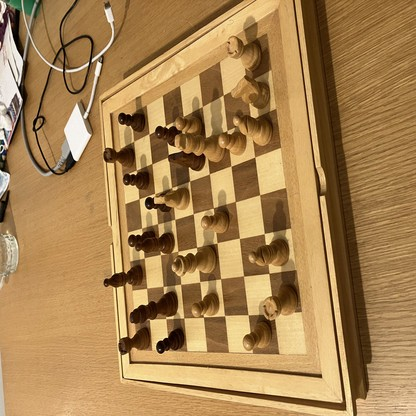bishop_black: (135, 231, 175, 252), (104, 266, 143, 287)
bishop_white: (233, 114, 273, 146), (249, 237, 290, 266)
king_black: (129, 291, 178, 324)
knight_black: (169, 152, 204, 170)
knight_white: (231, 76, 271, 108), (155, 187, 191, 211)
pawn_black: (157, 327, 185, 354), (103, 146, 135, 167), (118, 113, 144, 131), (124, 172, 149, 190)
pawn_white: (242, 319, 272, 351), (202, 209, 230, 233), (192, 292, 219, 316), (219, 132, 246, 155), (175, 115, 202, 135)
queen_white: (173, 244, 217, 276)
rock_black: (119, 328, 151, 353)
rock_white: (262, 282, 298, 320), (226, 36, 261, 71)
